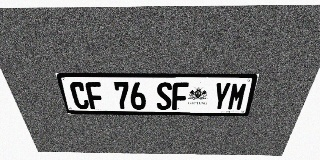6: (129, 82, 146, 110)
7: (113, 82, 131, 110)
C: (69, 82, 90, 109)
F: (85, 82, 105, 109), (172, 82, 189, 110)
M: (227, 82, 249, 110)
S: (156, 82, 172, 110)
Y: (211, 82, 232, 110)
